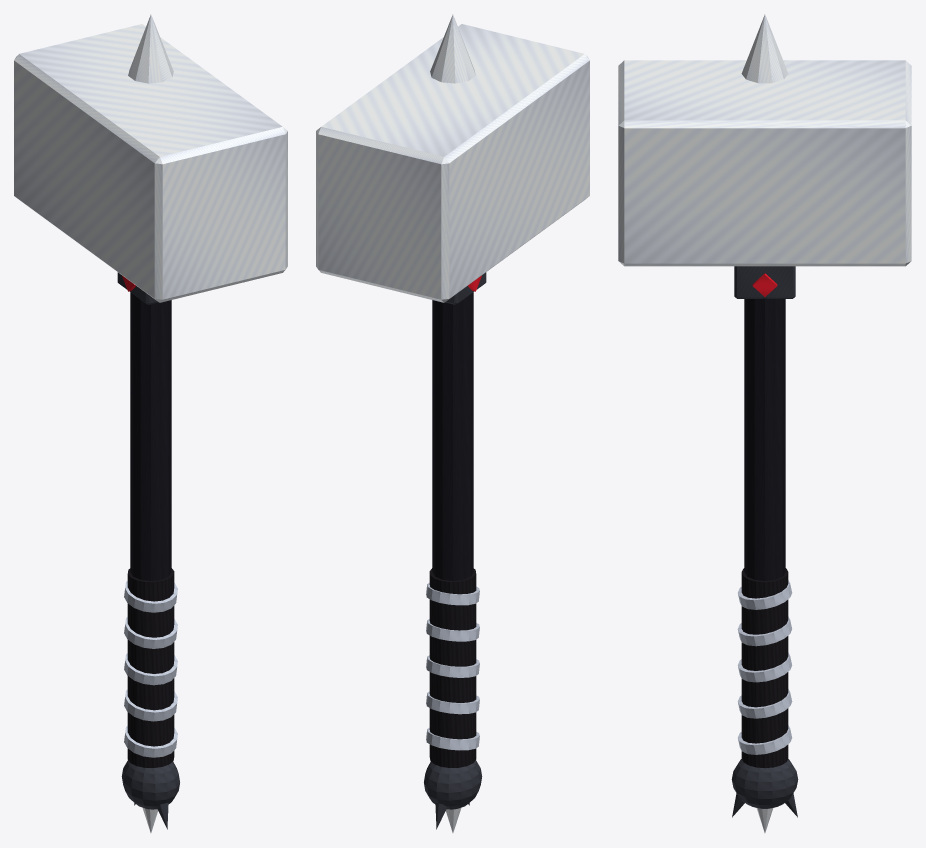
The model's file is Mace.fbx.
The picture shows the model from 3 angles, left to right: view 1: azimuth 30°, elevation 25°; view 2: azimuth 150°, elevation 25°; view 3: azimuth 270°, elevation 25°; orthographic projection.
Parts seen in each view (by area): view 1: Mace; view 2: Mace; view 3: Mace.
Part boxes in pixels (x1,y1,x2,y2): Mace: (14,14,287,832); Mace: (316,14,589,832); Mace: (618,14,911,832).
Bounding box in the file's own units: 105 × 617 × 200.
Materials: 1 (1 with a texture image).
